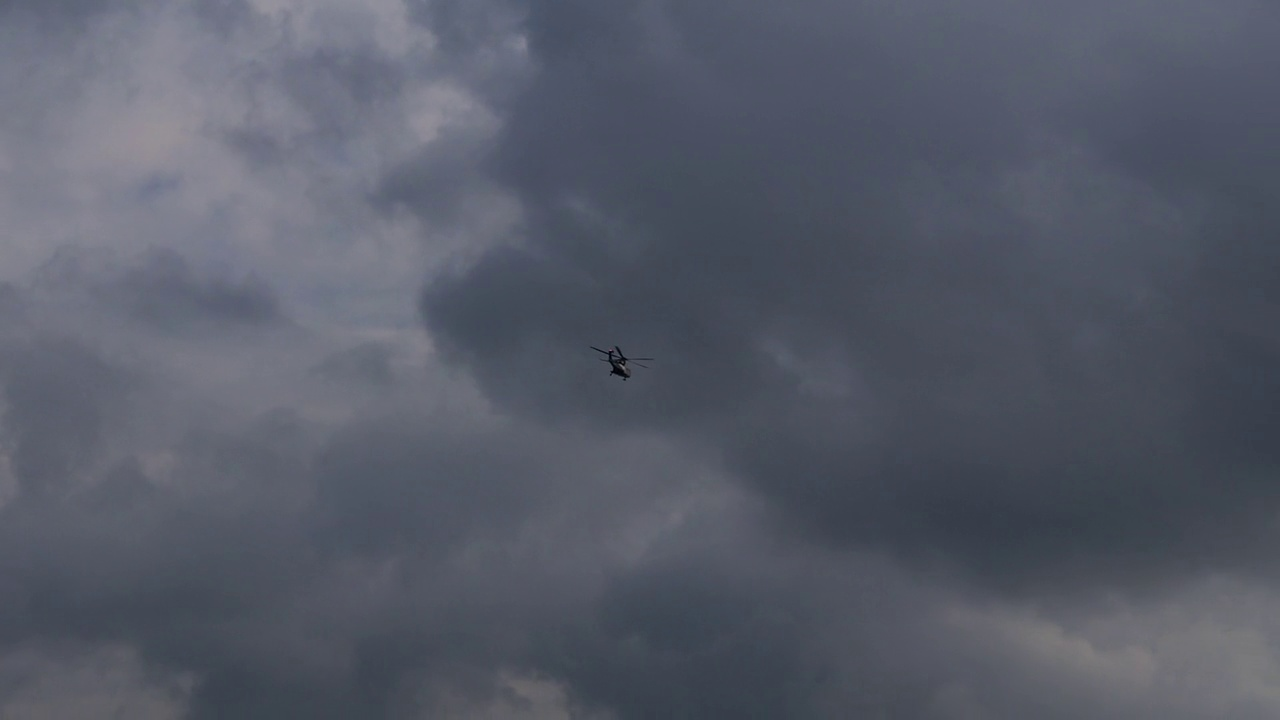heli: (588, 340, 653, 381)
